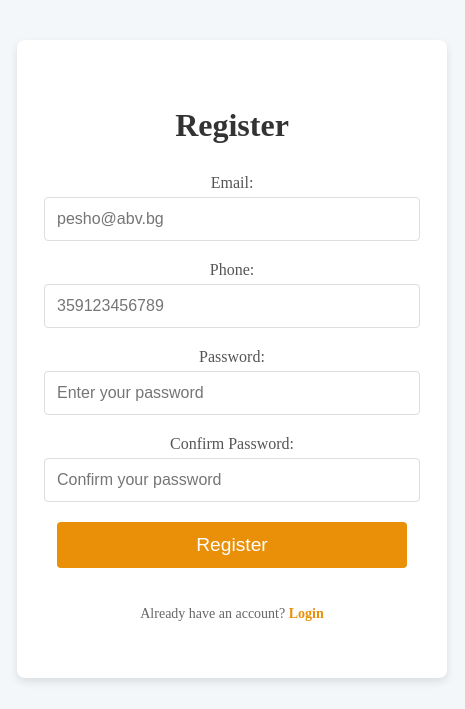
Testing Register Component › Should show an error message that email is invalid
Type "invalid email" into the field labelled "Email:". click: (232, 219)
box: [44,197,420,241]
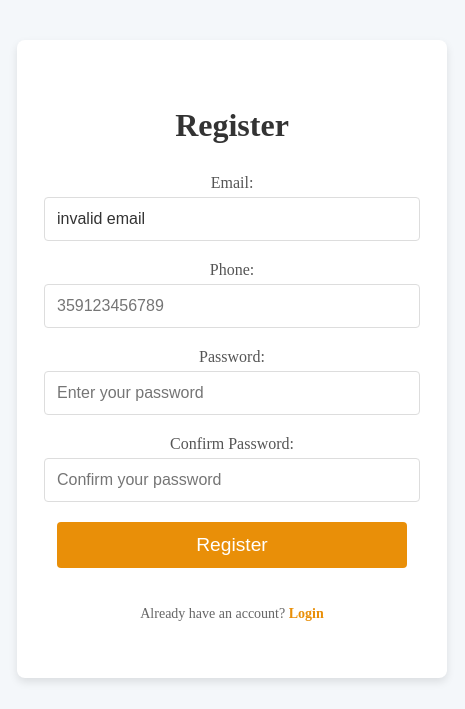
Type "3591234567890" into the number field labelled "Phone:". click: (232, 306)
box: [44,284,420,328]
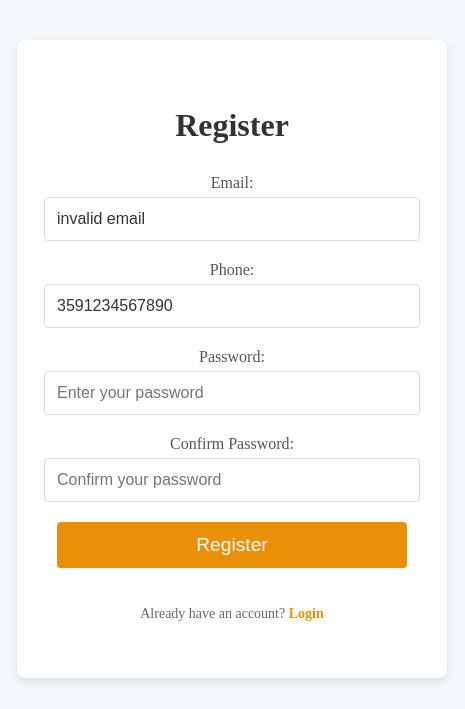
Type "123456" into the password field labelled "Password:". click: (232, 393)
box: [44,371,420,415]
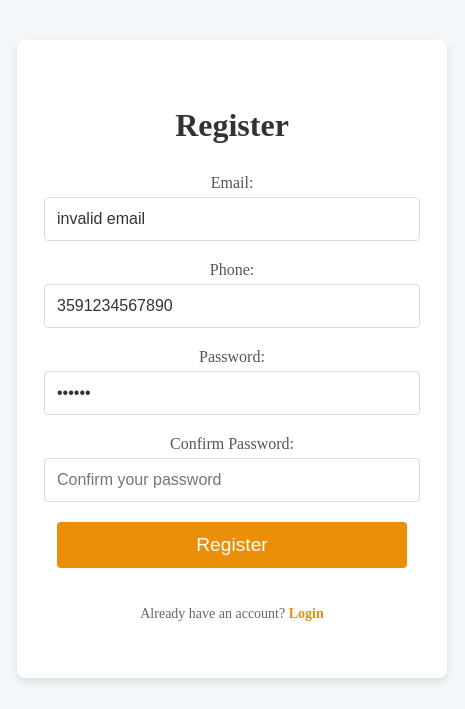
Type "123456" into the password field labelled "Confirm Password:". click: (232, 480)
box: [44,458,420,502]
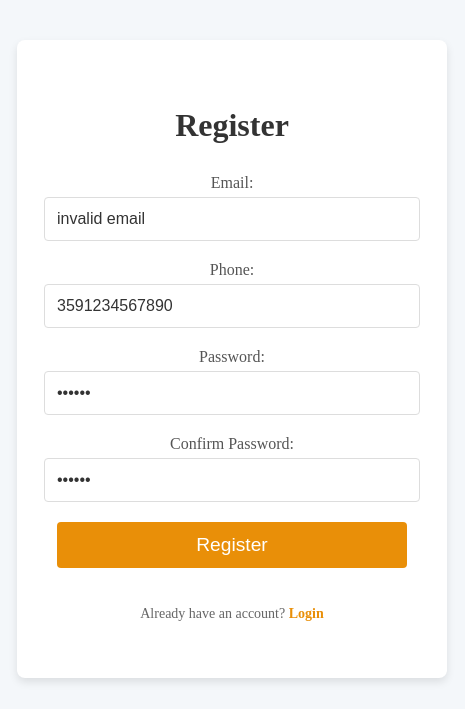
Submit the form with test id "register-form"
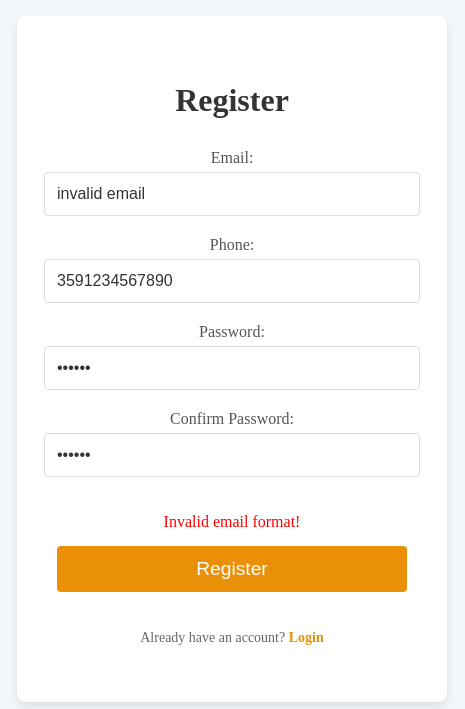
Check: the text "Invalid email format!" is shown, box [164,513,300,530]
